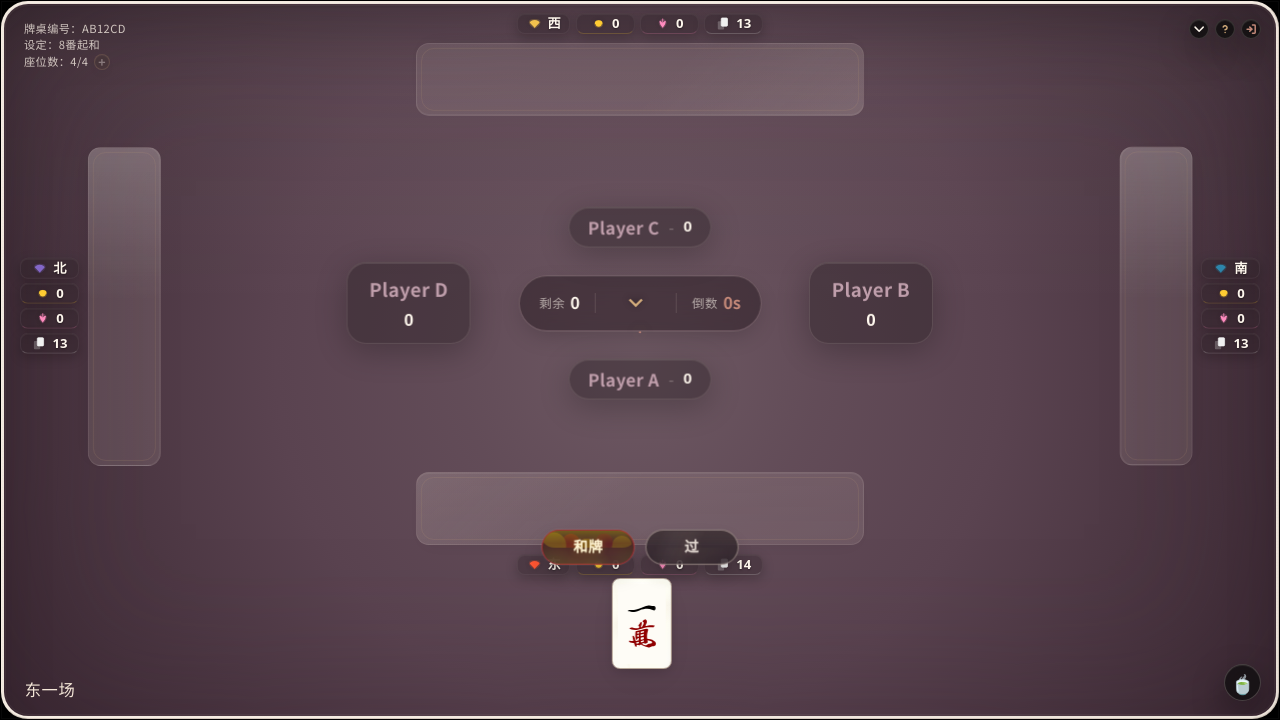
Test case: App › sends pass for a local self-hu prompt so the server can advance the turn
Click the button "过".
click(692, 547)  # box [645,530,738,564]
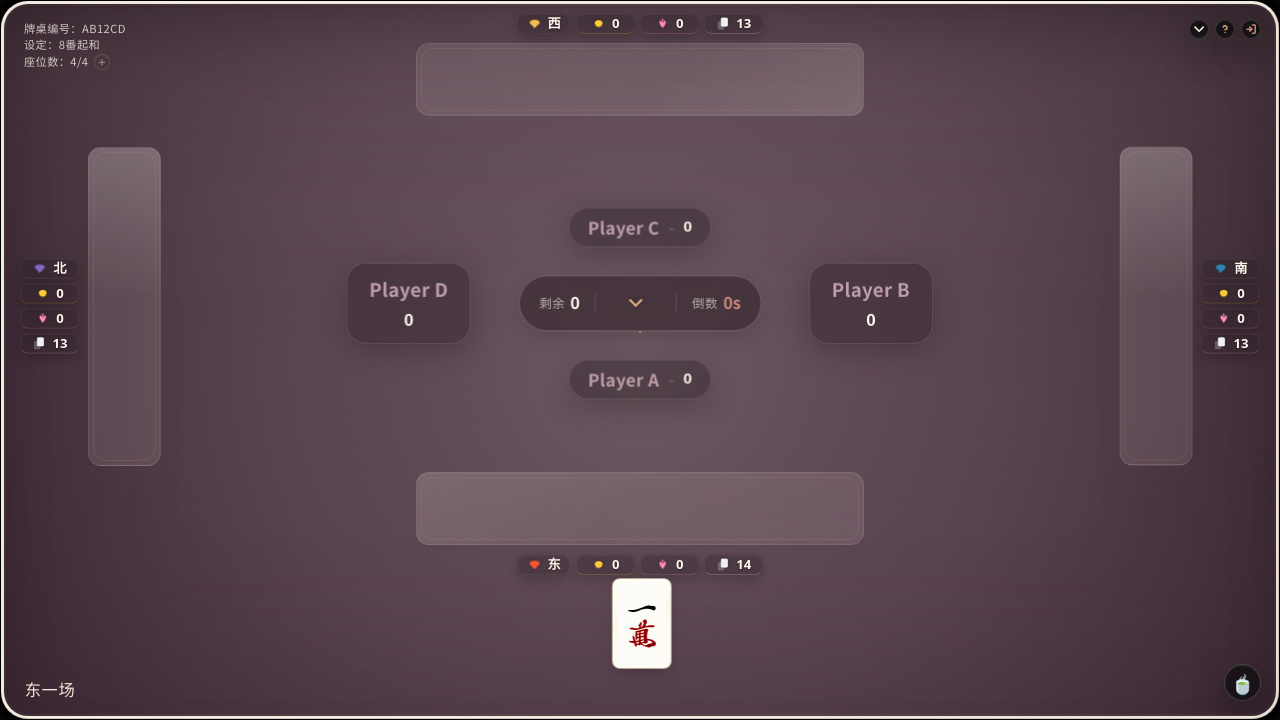
Check: the button "过" is gone
Check: the button "和牌" is gone
